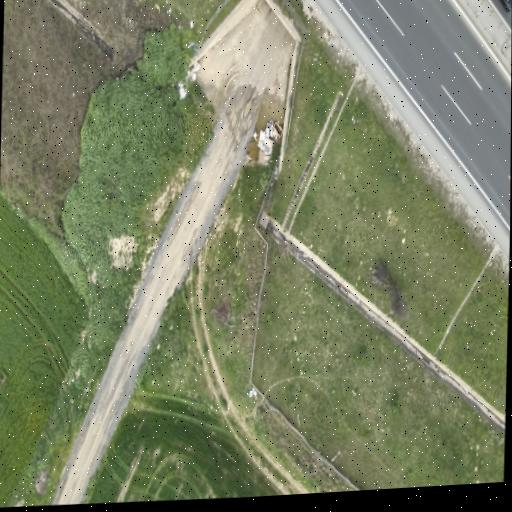car: (501, 0, 511, 11)
